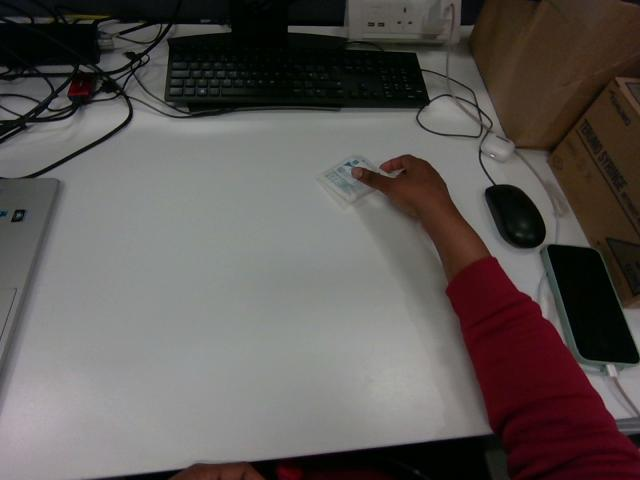gauze: (318, 155, 377, 206)
